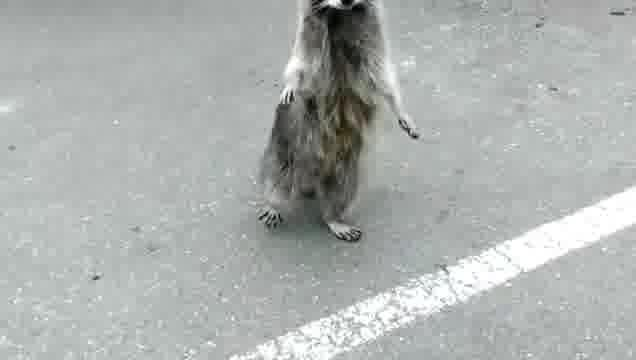raccoon: (258, 0, 421, 243)
